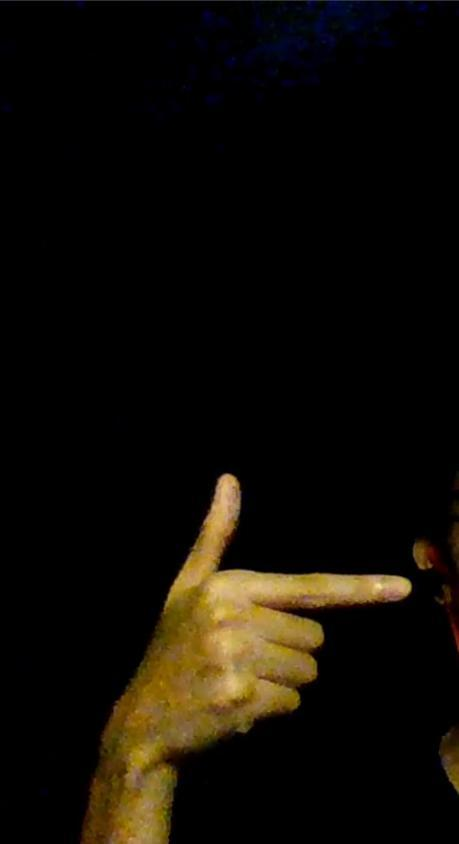g: (98, 473, 416, 765)
